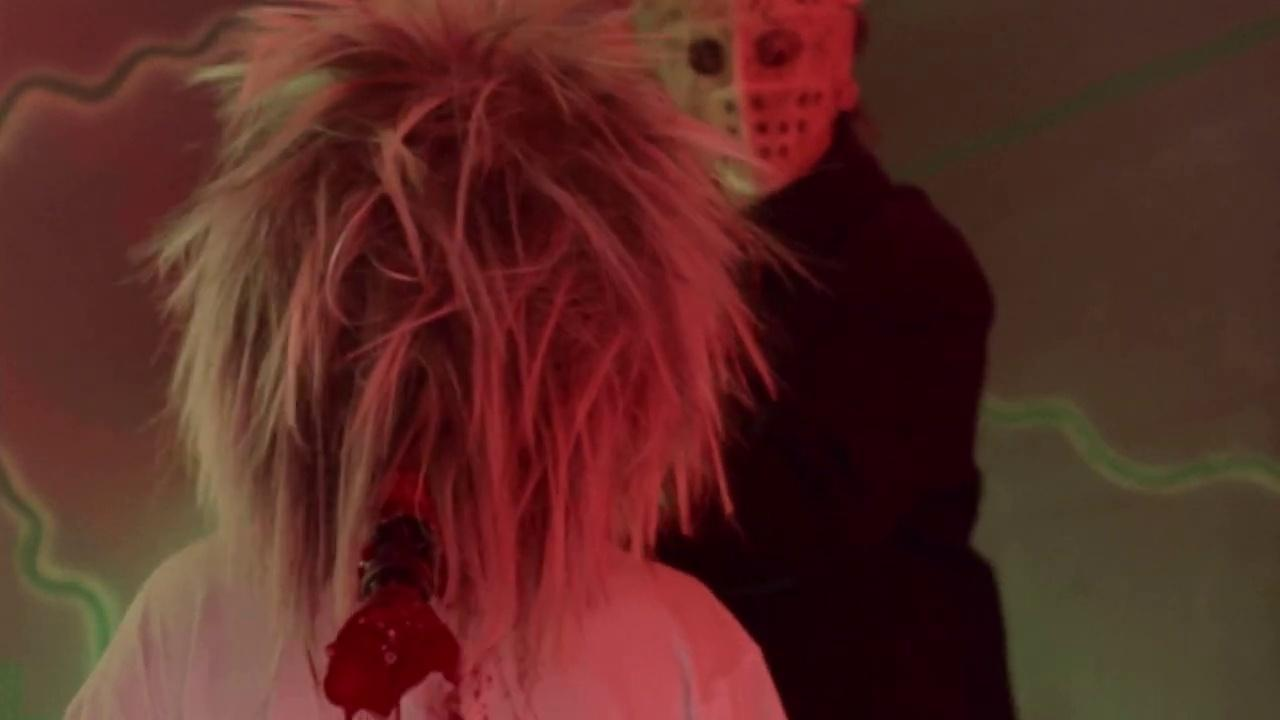Fire: (326, 487, 492, 720)
